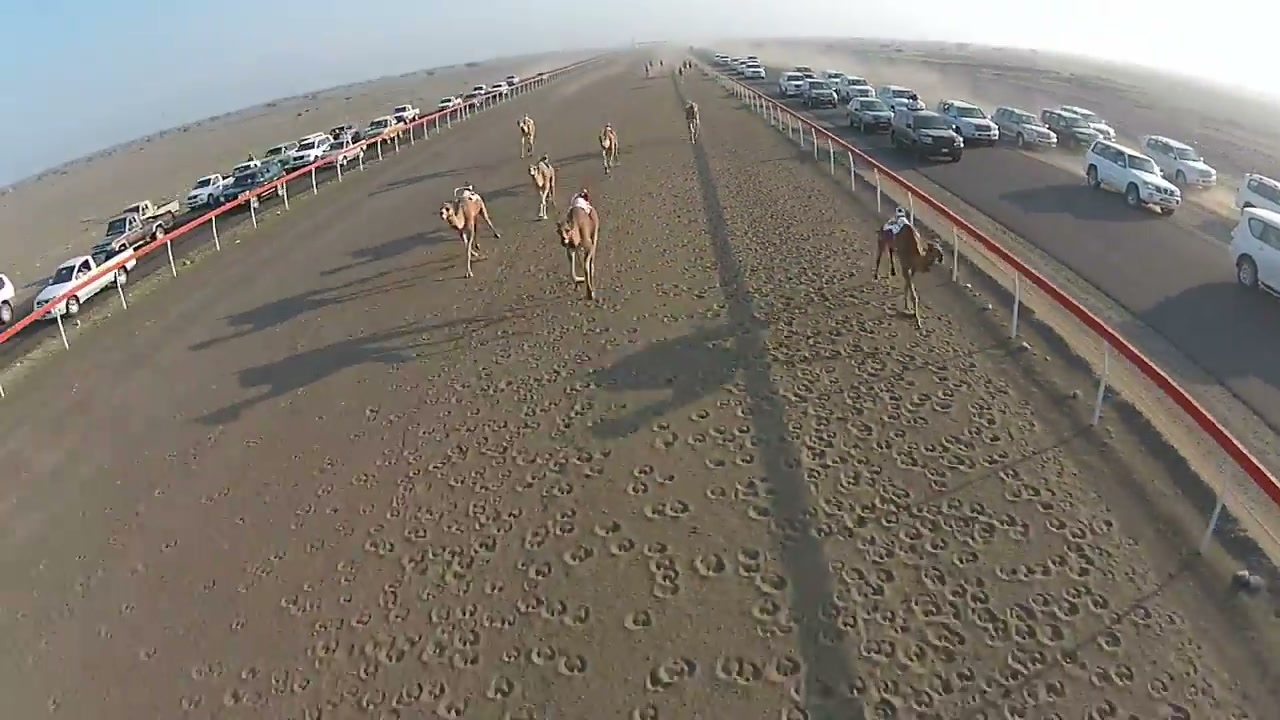animal_foot_print: (72, 83, 1249, 719)
